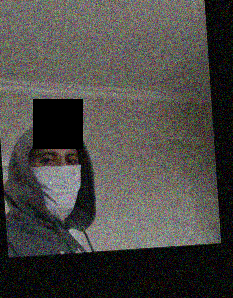with_mask: (29, 146, 82, 222)
